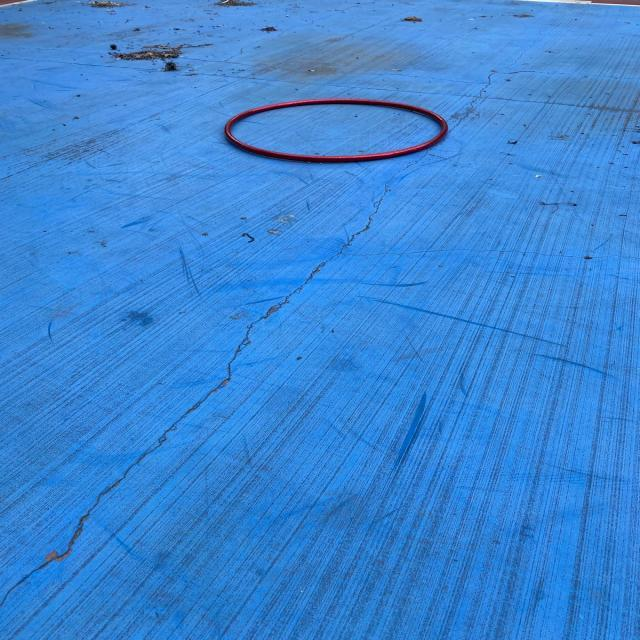Circle: (224, 98, 451, 164)
